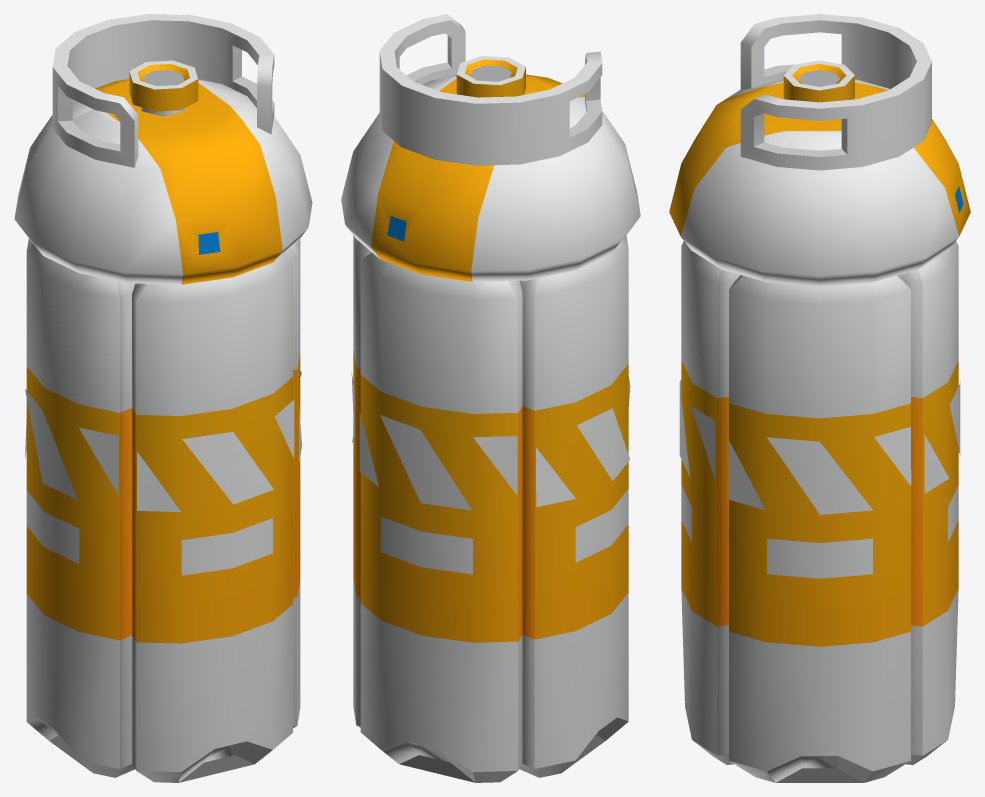
File: Barrel_015.fbx
3 views of the same model, side by side, from view 1: azimuth 30°, elevation 25°; view 2: azimuth 150°, elevation 25°; view 3: azimuth 270°, elevation 25° (orthographic).
Parts seen in each view (by area): view 1: Barrel_015; view 2: Barrel_015; view 3: Barrel_015.
Part boxes in pixels (left/top/right/bottom): Barrel_015: left=14, top=14, right=312, bottom=782; Barrel_015: left=341, top=14, right=640, bottom=782; Barrel_015: left=669, top=14, right=970, bottom=782.
Bounding box in the file's own units: 53.31 × 53.31 × 132.
